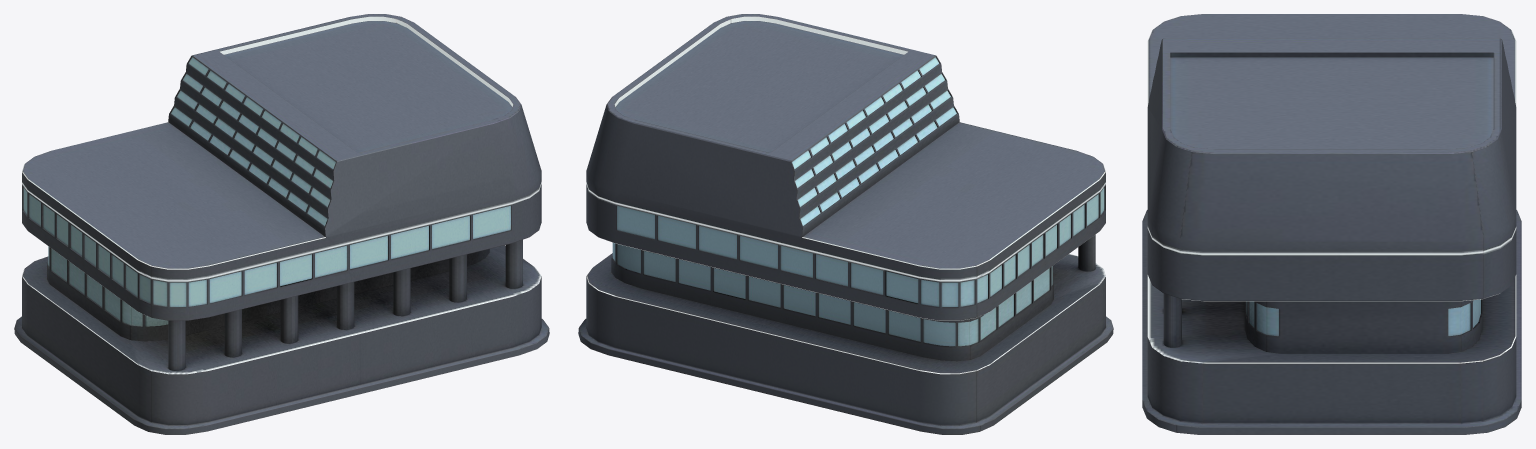
The model's file is Round_c.gltf.
3 views of the same model, side by side, from view 1: azimuth 30°, elevation 25°; view 2: azimuth 150°, elevation 25°; view 3: azimuth 270°, elevation 25° (orthographic). The views are drawn at different scales.
Visible parts, largest first — view 1: blok_4.002; view 2: blok_4.002; view 3: blok_4.002.
Boxes of the visible parts, left/top/right/bottom form: blok_4.002: left=14, top=14, right=549, bottom=434; blok_4.002: left=578, top=14, right=1113, bottom=434; blok_4.002: left=1142, top=14, right=1521, bottom=434.
Bounding box in the file's own units: 59.98 × 32.2 × 41.11.
3 materials, 3 textured.
